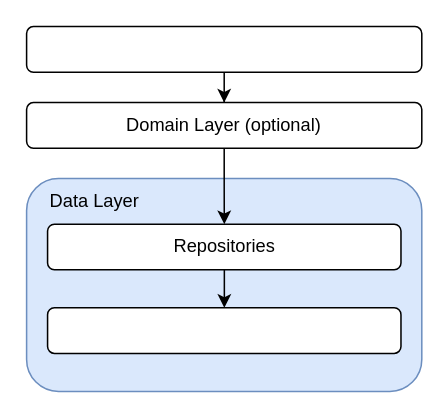
The diagram is 448 pixels wide and 418 high, and some of its shapes have lost their labels. The shapes that lost their labels are listed below. From the top down, each one's centre as x and y in pixels, then its label:
At point 223,48: "UI Layer".
At point 223,329: "Data Sources".
